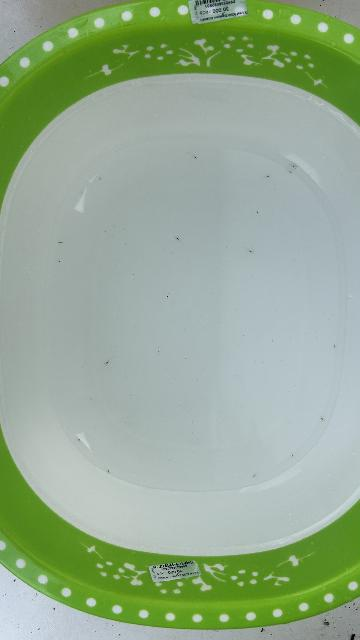benur: (245, 250, 254, 254), (104, 360, 110, 366), (193, 155, 198, 161), (291, 164, 297, 169), (319, 417, 325, 422), (175, 236, 180, 241), (57, 241, 65, 244), (166, 293, 170, 299), (255, 209, 259, 214), (287, 171, 293, 174), (291, 453, 294, 459), (107, 470, 111, 474), (77, 438, 81, 442), (266, 175, 271, 178), (333, 344, 336, 349), (57, 260, 62, 263), (81, 191, 84, 195), (252, 475, 255, 478), (99, 177, 101, 180), (105, 231, 107, 233)
